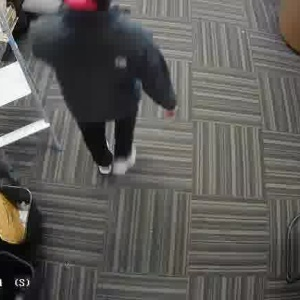person: (46, 0, 159, 165)
